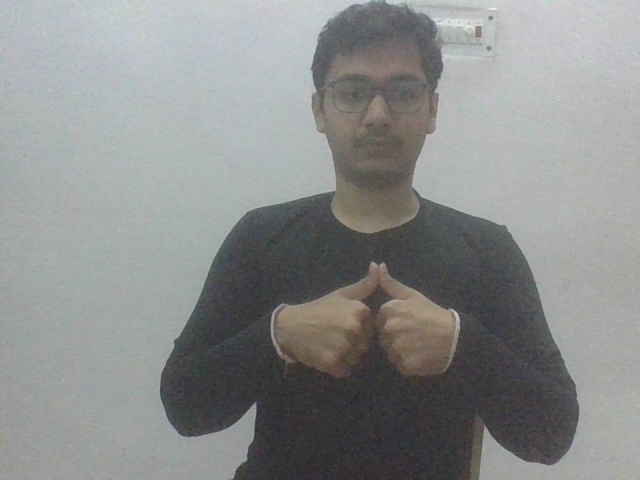A: (272, 256, 467, 383)
